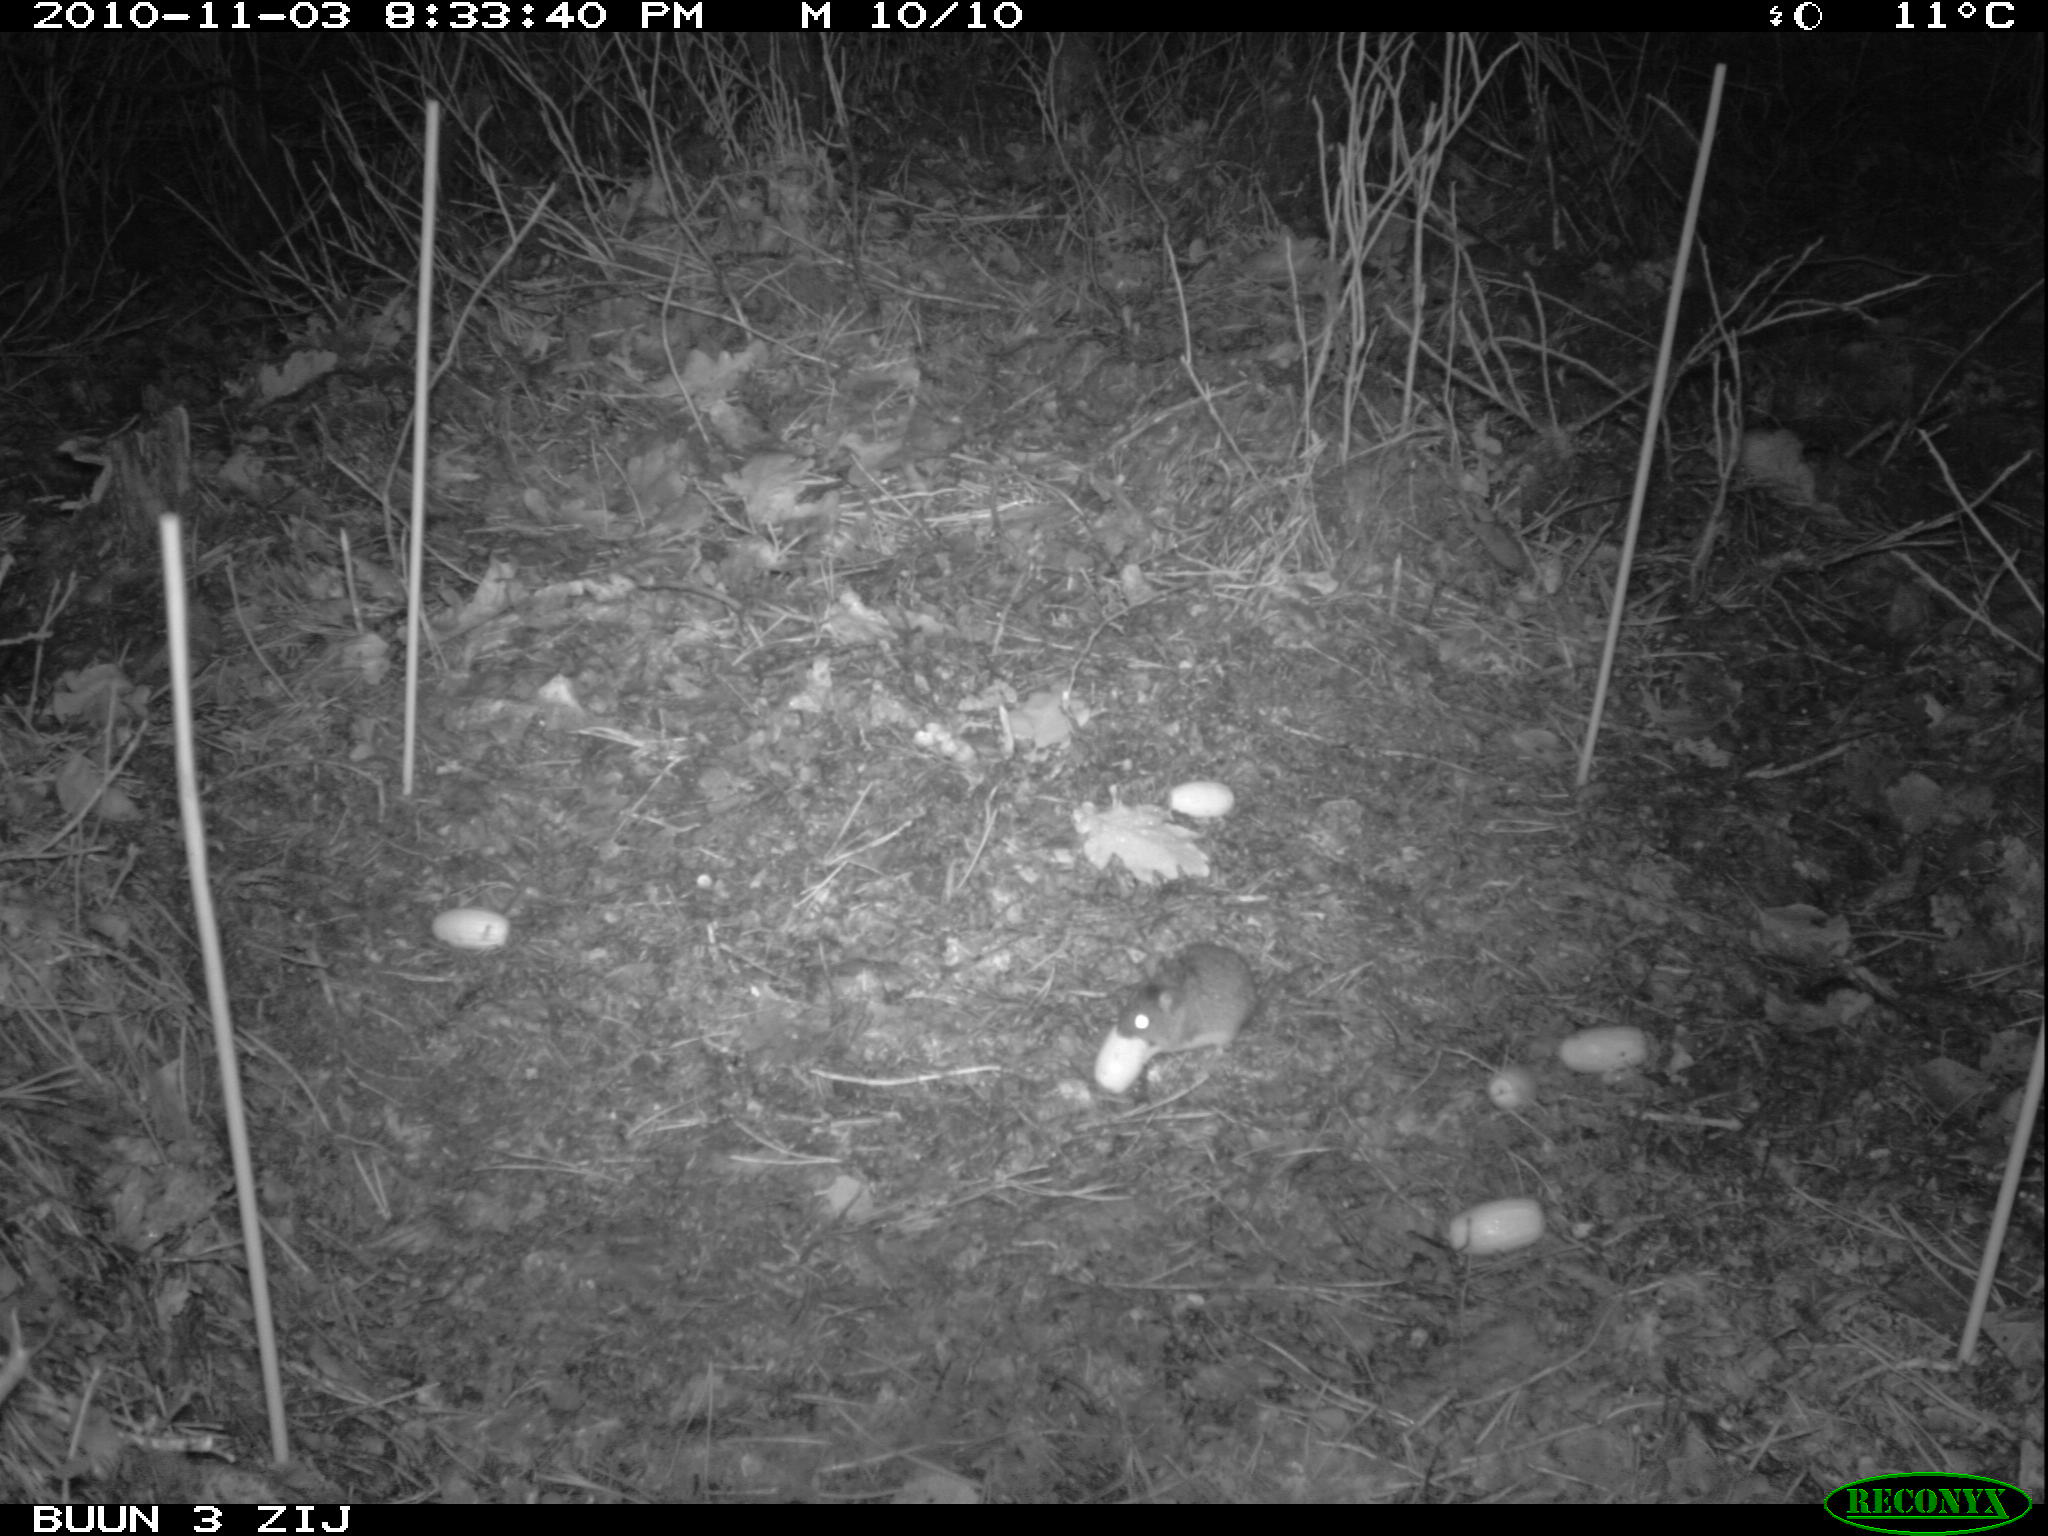Rodent: (1109, 941, 1287, 1079)
